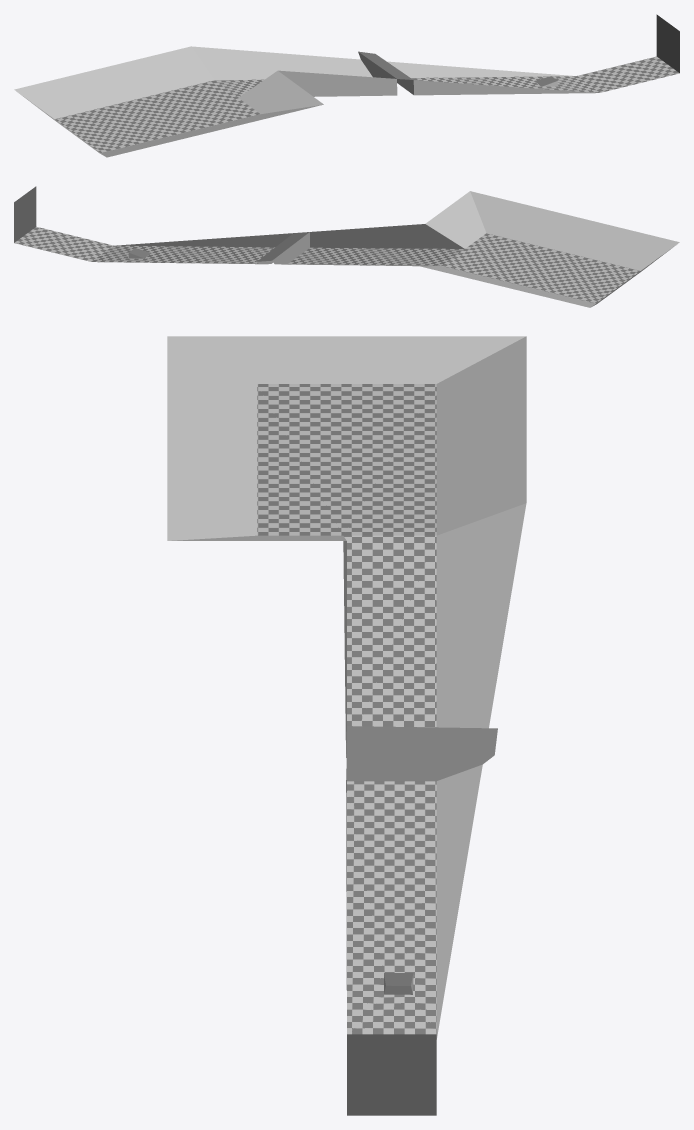
The model's file is level.gltf.
The picture shows the model from 3 angles, top to bottom: view 1: azimuth 30°, elevation 25°; view 2: azimuth 150°, elevation 25°; view 3: azimuth 270°, elevation 25°; orthographic projection. The views are drawn at different scales.
Visible parts, largest first — view 1: Plane; view 2: Plane; view 3: Plane.
Part boxes in pixels (x1,y1,x2,y2): Plane: (14,14,679,157); Plane: (14,186,679,307); Plane: (167,336,526,1115).
Size of the model in its own units: 385 by 60 by 100.
Materials: 1 (1 with a texture image).
